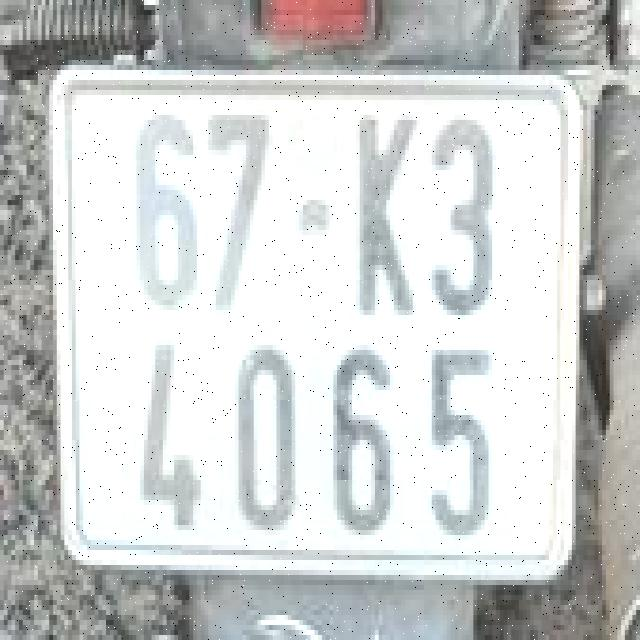0: (220, 328, 306, 542)
3: (426, 100, 506, 325)
4: (119, 328, 203, 528)
5: (420, 338, 508, 552)
6: (119, 102, 203, 322), (318, 345, 398, 545)
7: (195, 102, 290, 322)
K: (339, 88, 422, 332)
